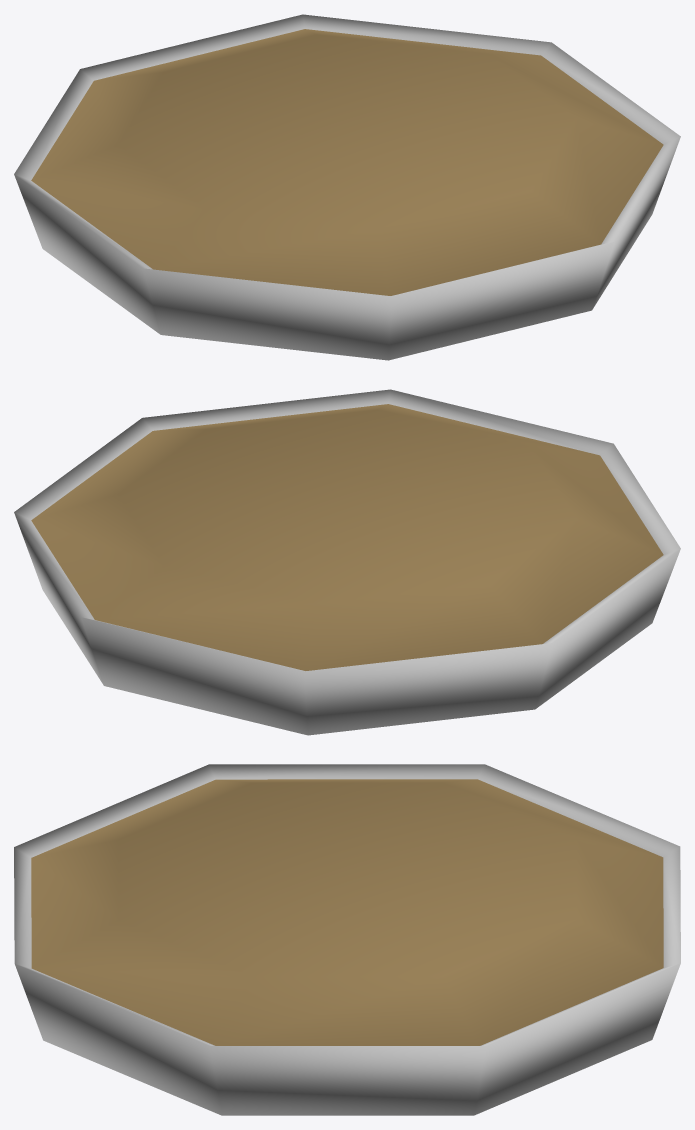
File: Pie.glb
3 views of the same model, one above another, from view 1: azimuth 30°, elevation 25°; view 2: azimuth 150°, elevation 25°; view 3: azimuth 270°, elevation 25° (orthographic). The views are drawn at different scales.
Visible parts, largest first — view 1: Pie; view 2: Pie; view 3: Pie.
Boxes of the visible parts, <box> form: Pie: <box>14,14,680,360</box>; Pie: <box>14,389,680,735</box>; Pie: <box>14,764,680,1115</box>.
Size of the model in its own units: 1.85 by 0.3279 by 1.85.
